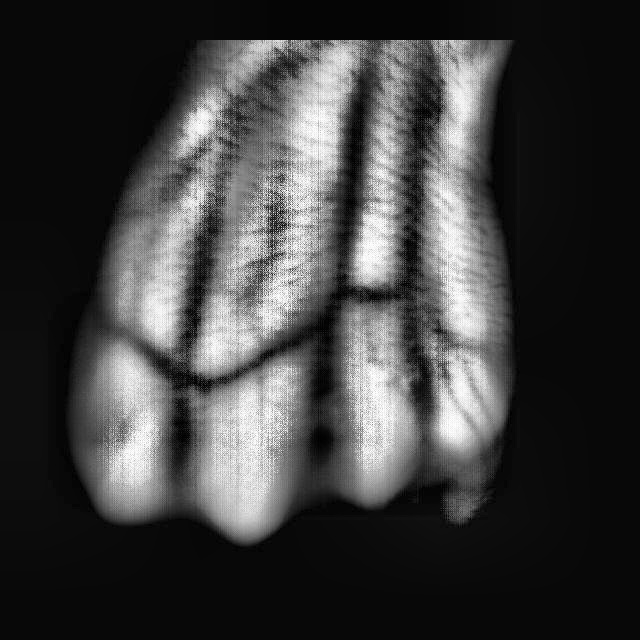Vein: (166, 125, 257, 348), (326, 67, 386, 278)
